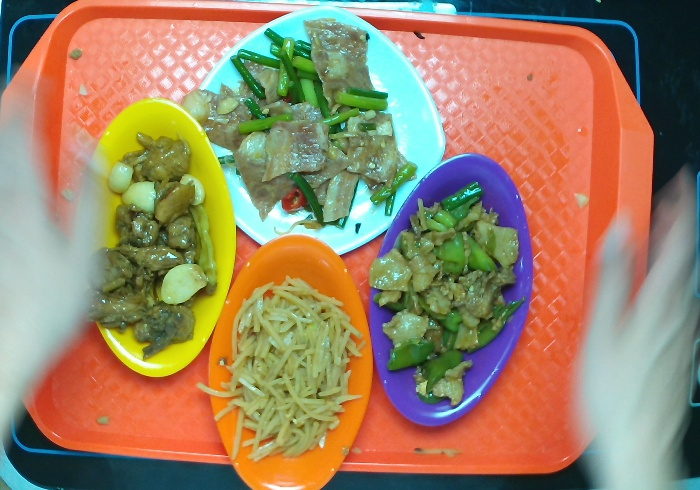RJxy-Fen_Hong_Tuo_Yuan: (360, 147, 537, 431)
RJxy-Huang_Se_Tuo_Yuan: (70, 88, 245, 385)
RJxy-Ju_Huang_Tuo_Yuan: (201, 231, 377, 488)
RJxy-Si_Fang_Die: (189, 3, 447, 256)
